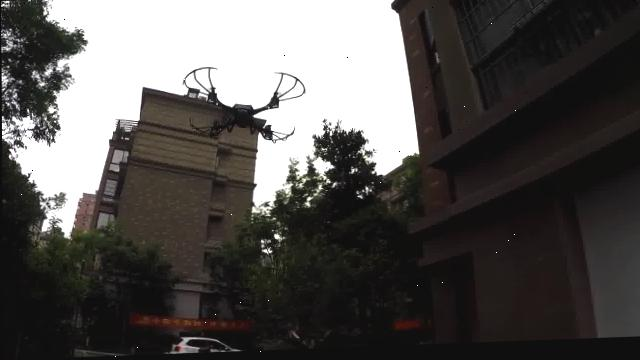drone: (179, 48, 306, 152)
